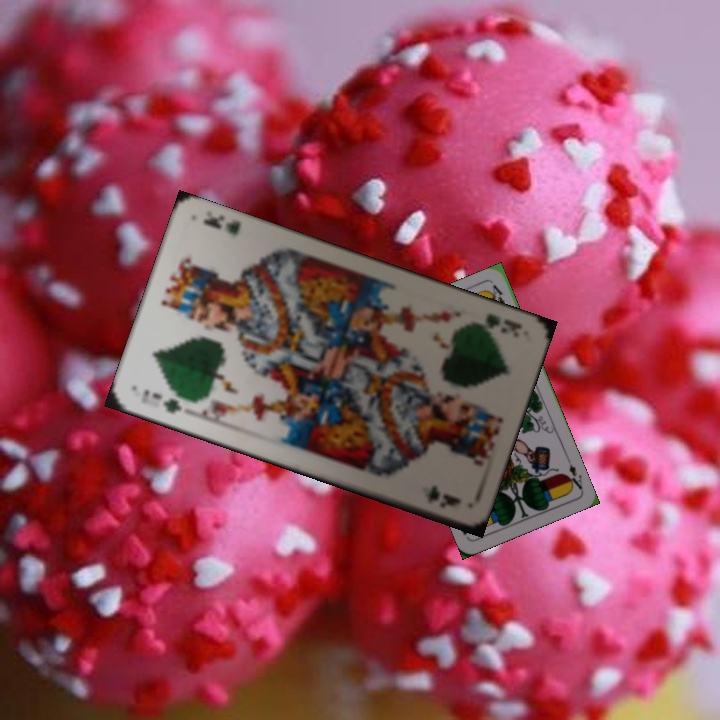EA: (562, 454, 585, 493)
GK: (137, 385, 185, 416), (480, 309, 525, 336)
